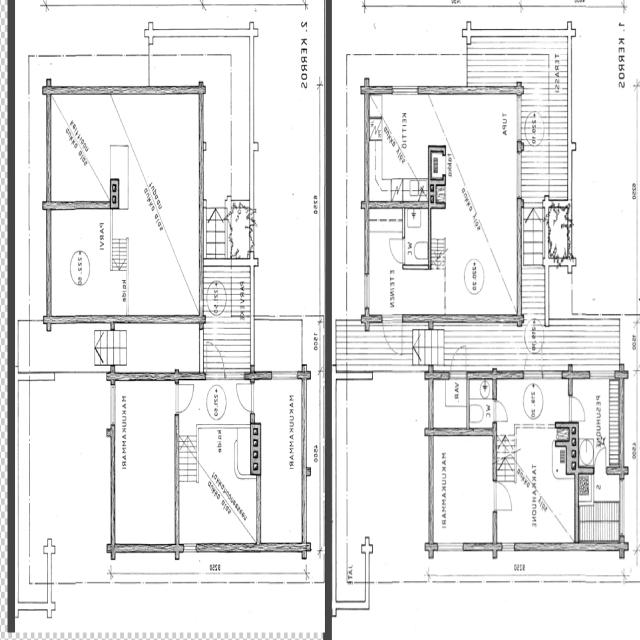door: (383, 314, 402, 356), (524, 339, 542, 378), (207, 340, 224, 381), (174, 384, 195, 414), (449, 342, 466, 378), (493, 481, 513, 510), (234, 383, 254, 411), (569, 393, 588, 420), (594, 442, 608, 472), (493, 398, 510, 422), (389, 237, 405, 262)
